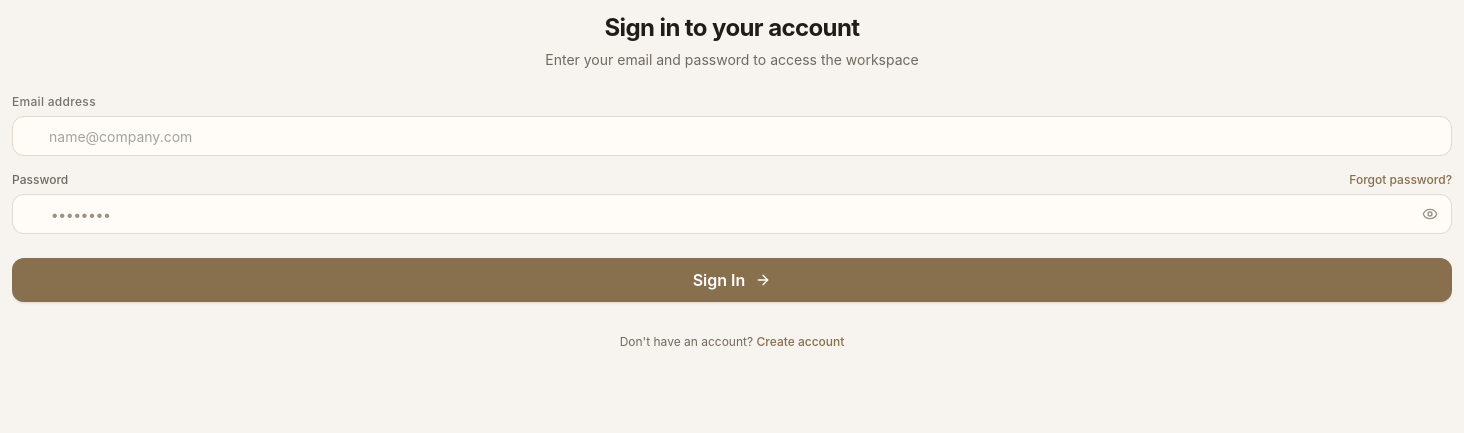
Test: Authentication Flow & Security Hardening › validates email format and password length in login
Check: the heading "Sign in to your account" is shown, box top-left (604, 13), bottom-right (860, 42)
Type "not-an-email" into the field with placeholder "name@company.com" at (732, 136), box top-left (12, 116), bottom-right (1452, 156)
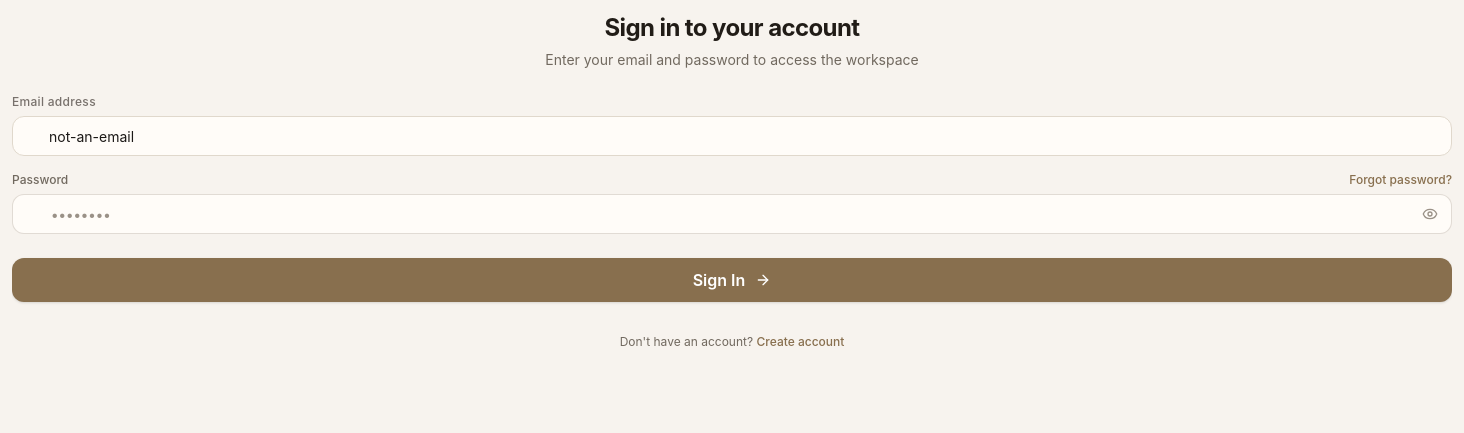
Type "short" into the password field with placeholder "••••••••" at (732, 214), box top-left (12, 194), bottom-right (1452, 234)
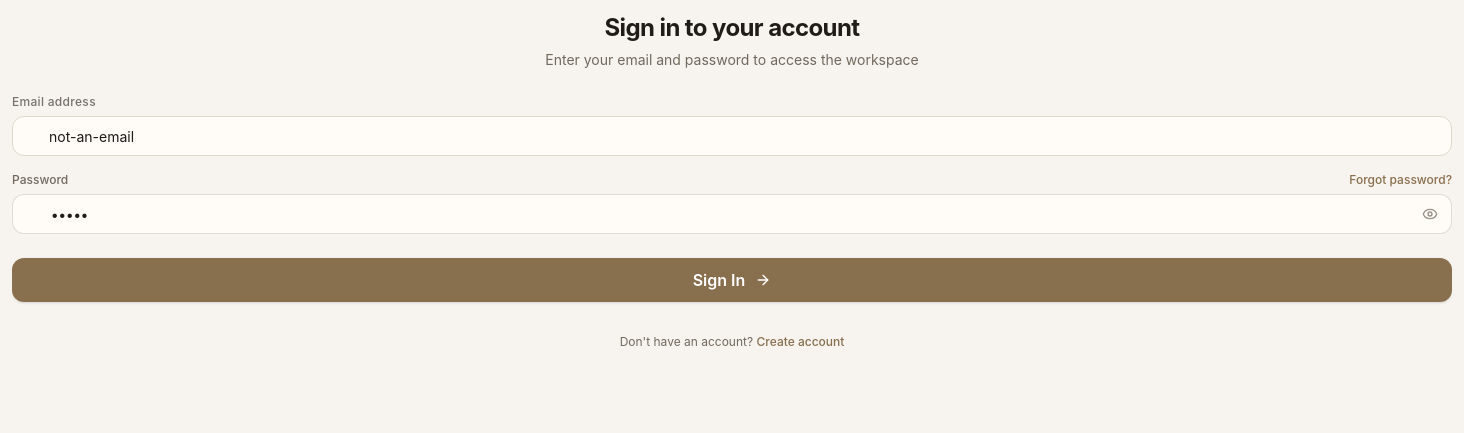
Click the button "Sign In" at (732, 280), box top-left (12, 258), bottom-right (1452, 302)
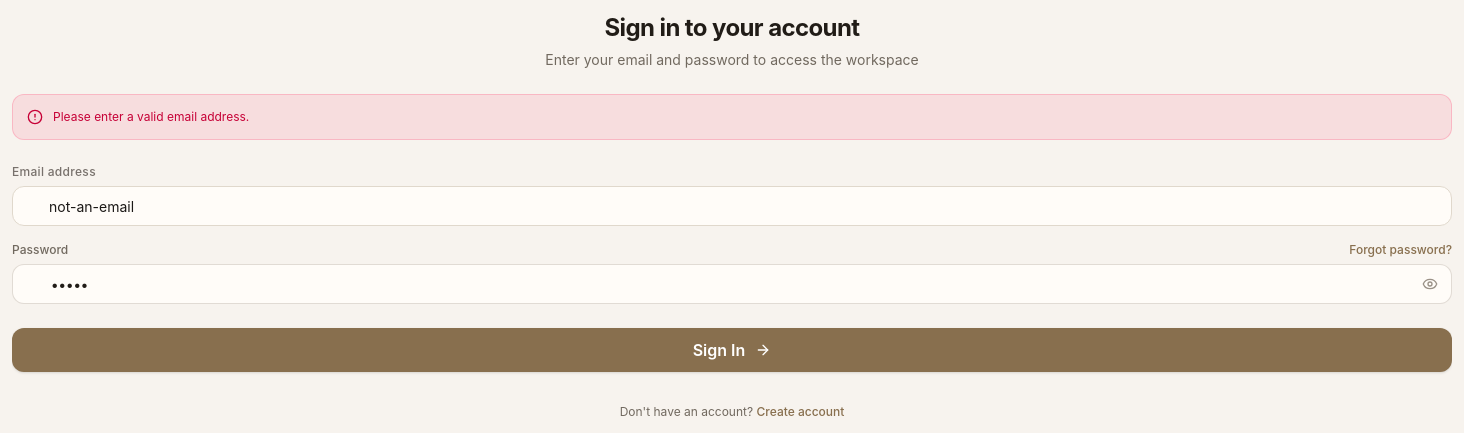
Check: the text "Please enter a valid email address." is shown, box top-left (53, 109), bottom-right (249, 125)
